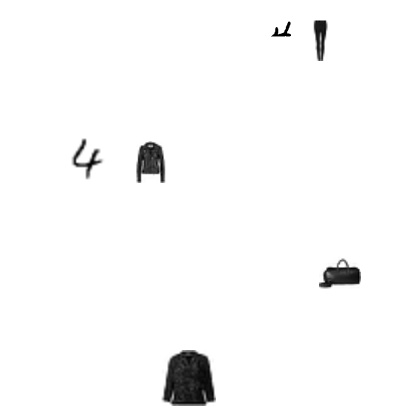4: (58, 131, 114, 187), (268, 17, 296, 45)
Bag: (319, 251, 361, 293)
Coat: (129, 141, 171, 183)
Shirt: (160, 350, 216, 406)
Trouser: (299, 19, 341, 61)
